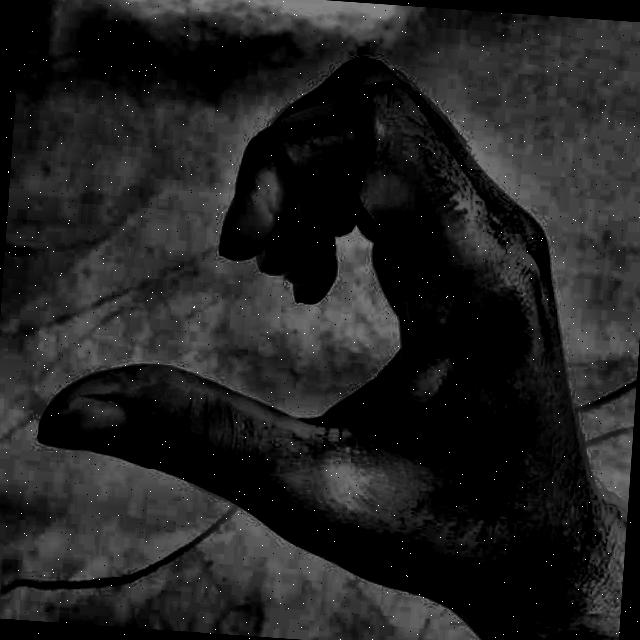Kha: (5, 0, 636, 621)
